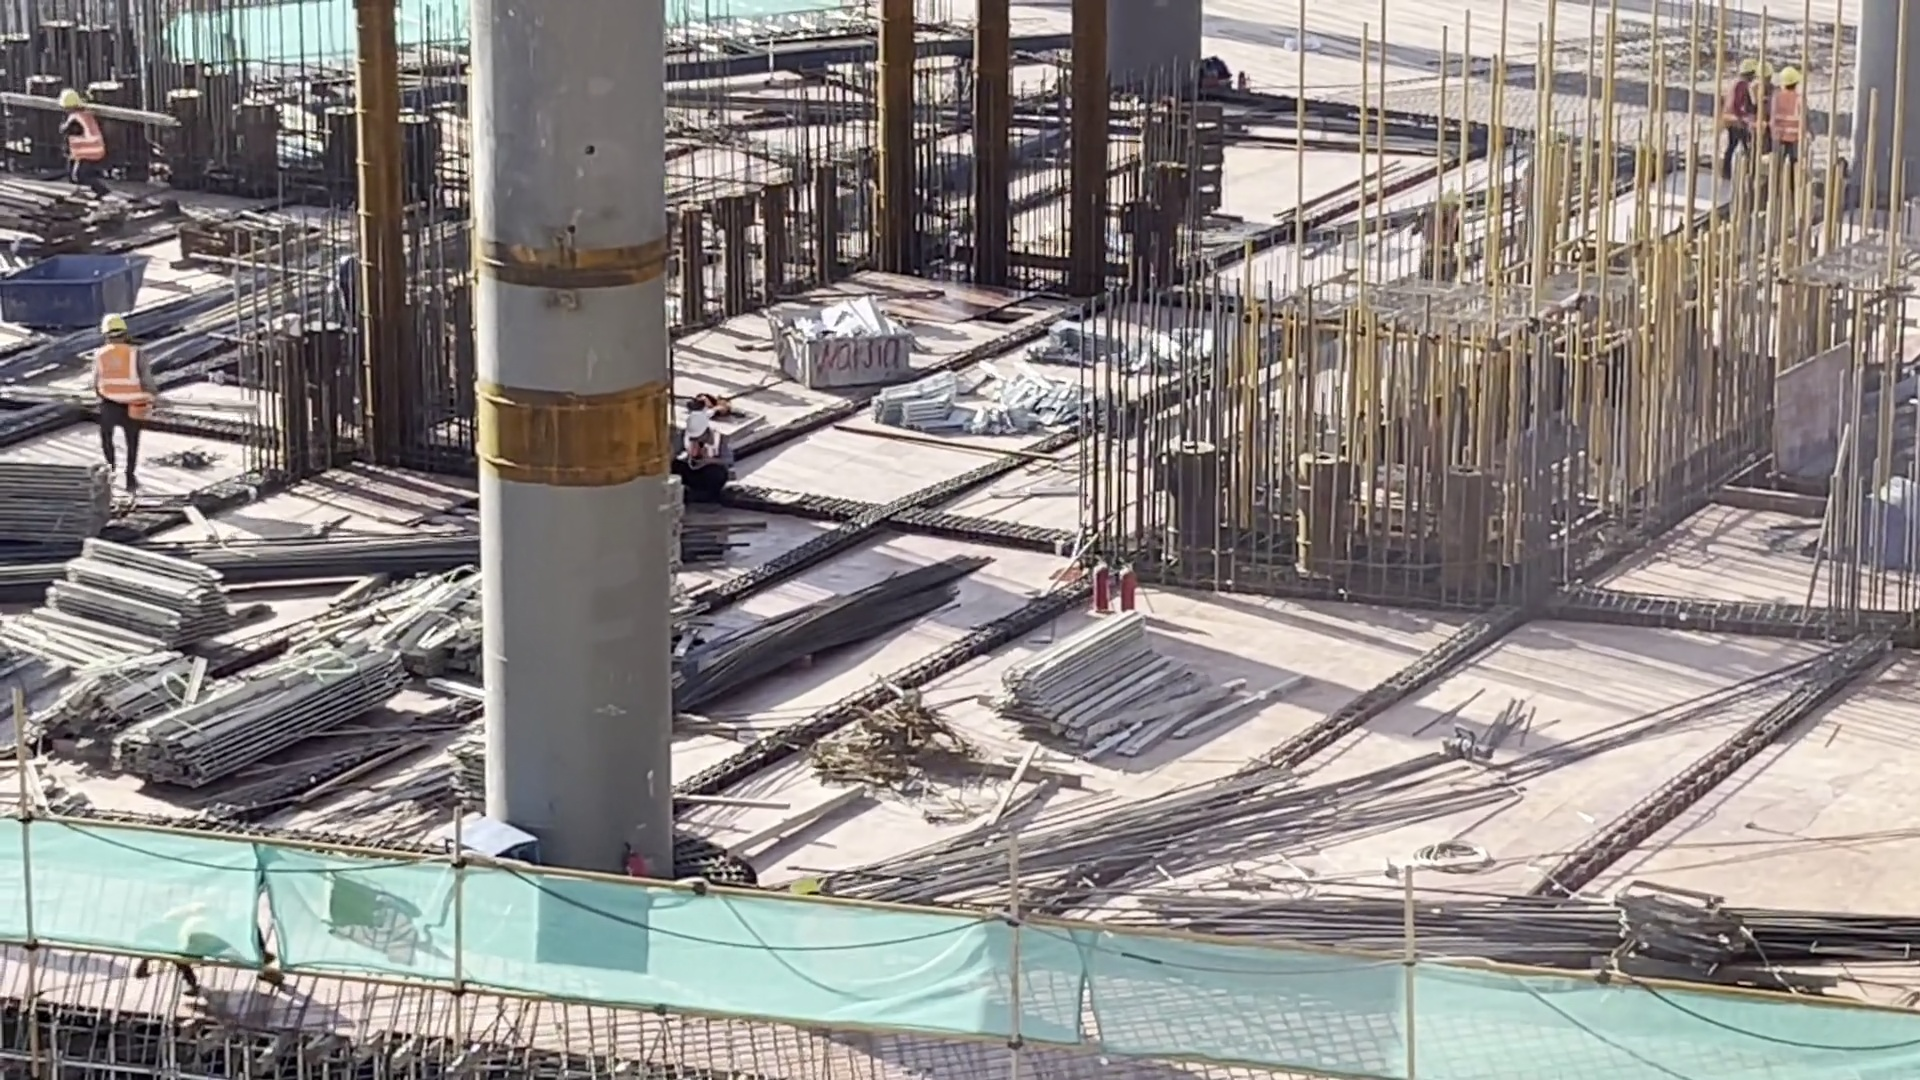helmet: (1730, 37, 1807, 93), (93, 300, 130, 342), (51, 80, 80, 116), (692, 409, 707, 439)
person: (82, 302, 152, 501), (54, 71, 110, 227), (662, 387, 734, 498), (1777, 56, 1815, 186), (1733, 46, 1760, 165)
vest: (80, 324, 148, 415), (1771, 86, 1811, 148), (66, 113, 95, 165)
